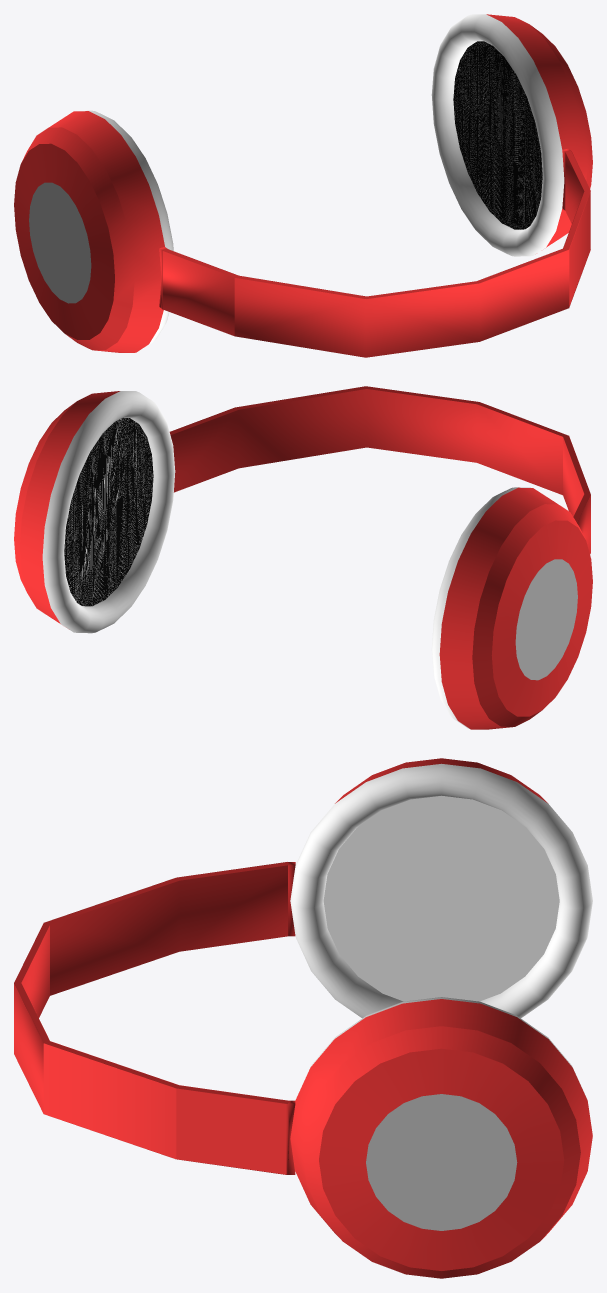
Rendered from model_scale.obj.
The picture shows the model from 3 angles, top to bottom: view 1: azimuth 30°, elevation 25°; view 2: azimuth 150°, elevation 25°; view 3: azimuth 270°, elevation 25°; orthographic projection. The views are drawn at different scales.
Parts seen in each view (by area): view 1: mesh1_mesh1-geometry; view 2: mesh1_mesh1-geometry; view 3: mesh1_mesh1-geometry.
Boxes of the visible parts, box(x1,y1,x2,y2) form: mesh1_mesh1-geometry: box(14, 14, 592, 357); mesh1_mesh1-geometry: box(14, 386, 592, 729); mesh1_mesh1-geometry: box(14, 758, 592, 1278).
Bounding box in the file's own units: 0.1718 × 0.0763 × 0.1459.
